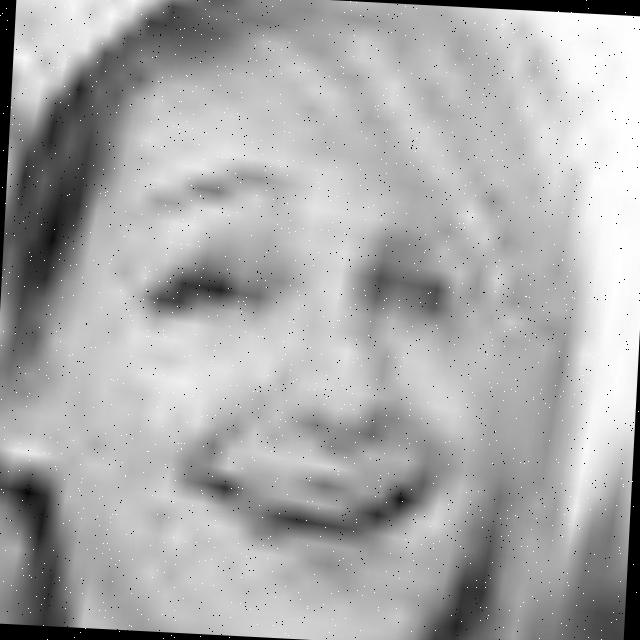Happiness: (0, 12, 592, 640)
